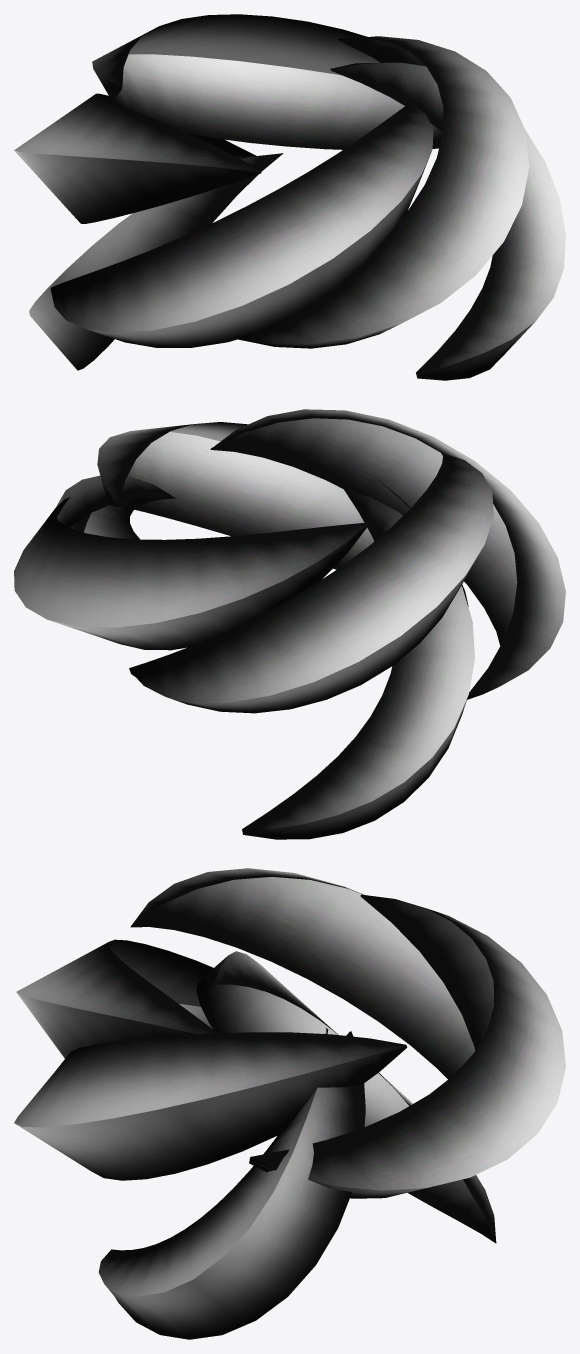
File: vfx_kurp_0696.dae
The picture shows the model from 3 angles, top to bottom: view 1: azimuth 30°, elevation 25°; view 2: azimuth 150°, elevation 25°; view 3: azimuth 270°, elevation 25°; orthographic projection. The views are drawn at different scales.
Visible parts, largest first — view 1: vfx_kurp_0696; view 2: vfx_kurp_0696; view 3: vfx_kurp_0696.
Part boxes in pixels (left/top/right/bottom): vfx_kurp_0696: left=14, top=14, right=565, bottom=380; vfx_kurp_0696: left=14, top=409, right=565, bottom=839; vfx_kurp_0696: left=14, top=868, right=565, bottom=1339.
Size of the model in its own units: 4.32 by 3.96 by 2.6.
Materials: 1 (1 with a texture image).
